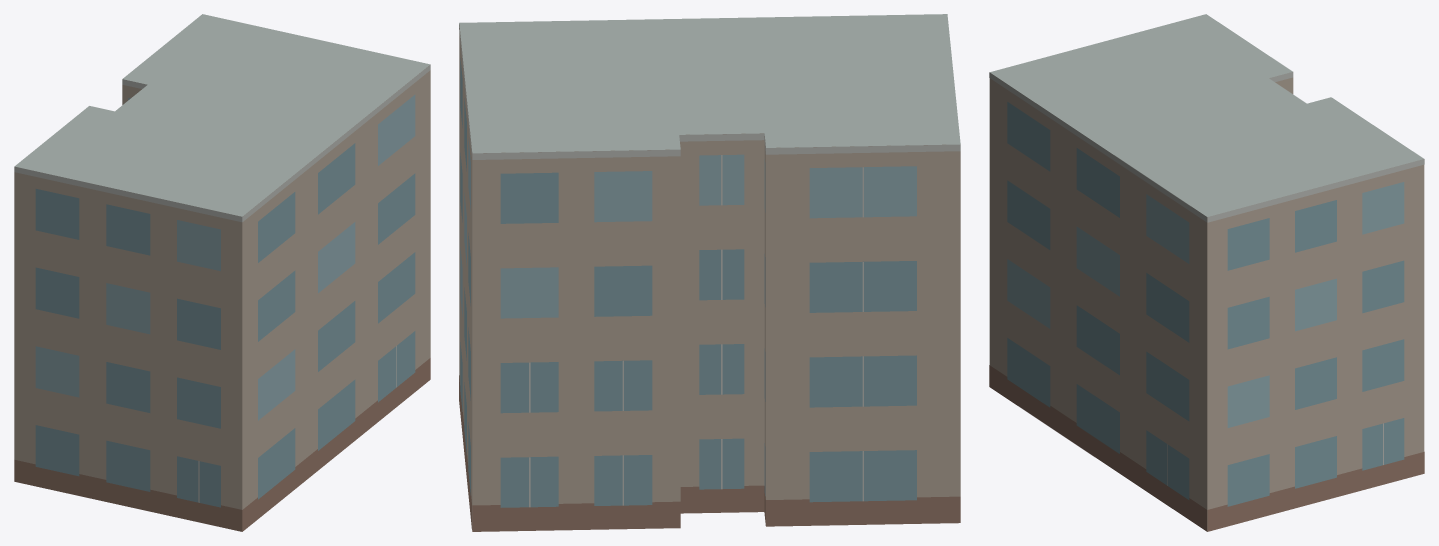
The model's file is residential-fc598c51-bb13-435e-abad-11e61a31c4d5.glb.
3 renders of one model, left to right at view 1: azimuth 30°, elevation 25°; view 2: azimuth 150°, elevation 25°; view 3: azimuth 270°, elevation 25°, orthographic. The views are drawn at different scales.
Visible parts, largest first — view 1: residential-fc598c51-bb13-435e-abad-11e61a31c4d5.tmp; view 2: residential-fc598c51-bb13-435e-abad-11e61a31c4d5.tmp; view 3: residential-fc598c51-bb13-435e-abad-11e61a31c4d5.tmp.
Boxes of the visible parts, x1,y1,x2,y2 form: residential-fc598c51-bb13-435e-abad-11e61a31c4d5.tmp: (14,14,430,531); residential-fc598c51-bb13-435e-abad-11e61a31c4d5.tmp: (459,14,960,531); residential-fc598c51-bb13-435e-abad-11e61a31c4d5.tmp: (989,14,1424,531).
Bounding box in the file's own units: 18.97 × 13.7 × 17.16.
